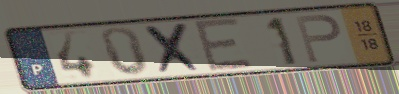0: (99, 26, 151, 79)
1: (264, 15, 301, 67)
4: (58, 29, 101, 81)
E: (190, 16, 257, 75)
P: (292, 13, 344, 65)
X: (141, 20, 208, 76)
